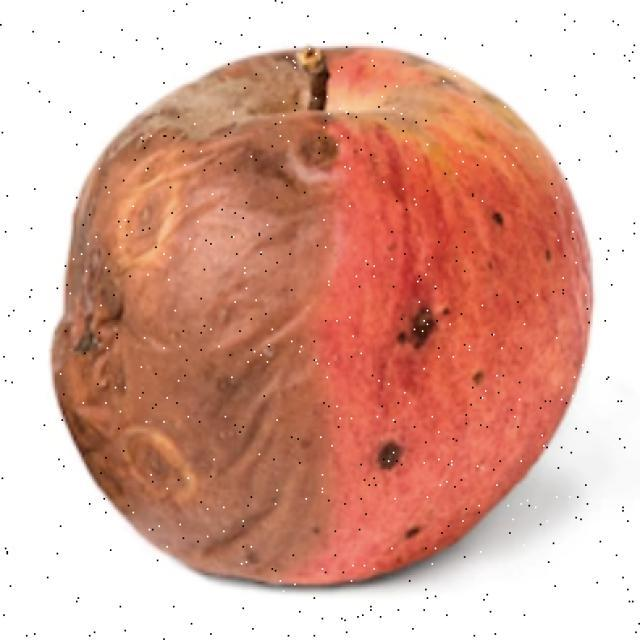Rotten: (54, 53, 578, 572)
